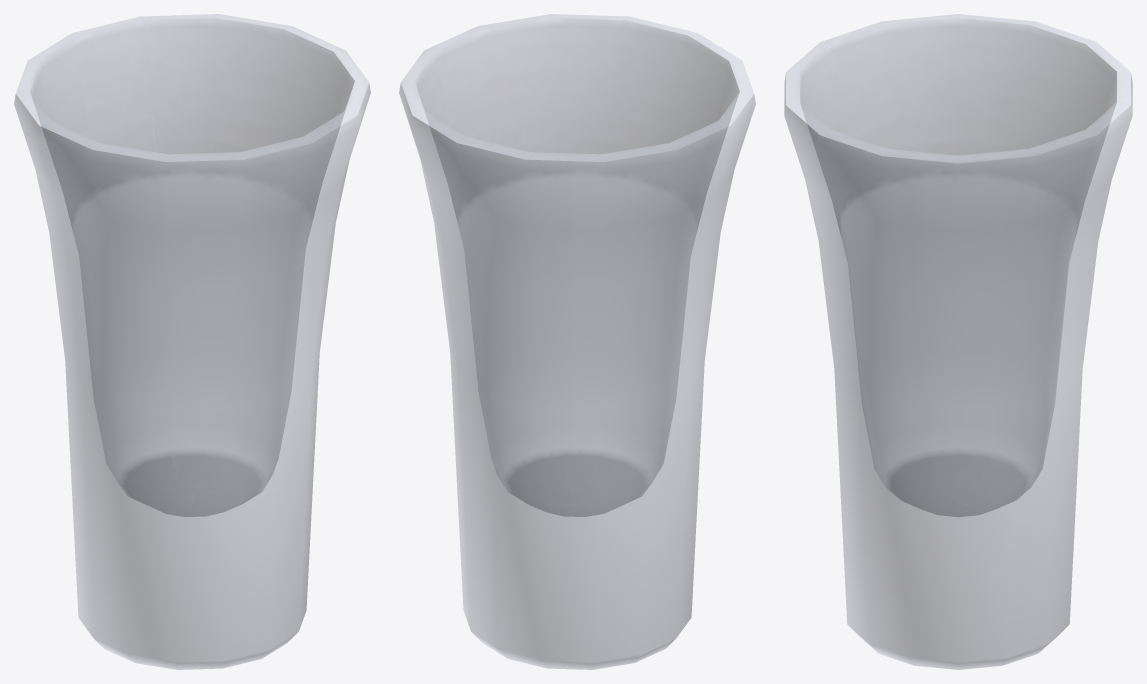
Rendered from SM_Shot_Glass_01.glb.
3 views of the same model, side by side, from view 1: azimuth 30°, elevation 25°; view 2: azimuth 150°, elevation 25°; view 3: azimuth 270°, elevation 25° (orthographic).
Visible parts, largest first — view 1: SM_Shot_Glass_01; view 2: SM_Shot_Glass_01; view 3: SM_Shot_Glass_01.
Boxes of the visible parts, x1=… form: SM_Shot_Glass_01: x1=14, y1=14, x2=370, y2=669; SM_Shot_Glass_01: x1=399, y1=14, x2=755, y2=669; SM_Shot_Glass_01: x1=784, y1=14, x2=1132, y2=669.
Bounding box in the file's own units: 0.0385 × 0.0643 × 0.0376.
Materials: 1 (1 with a texture image).
